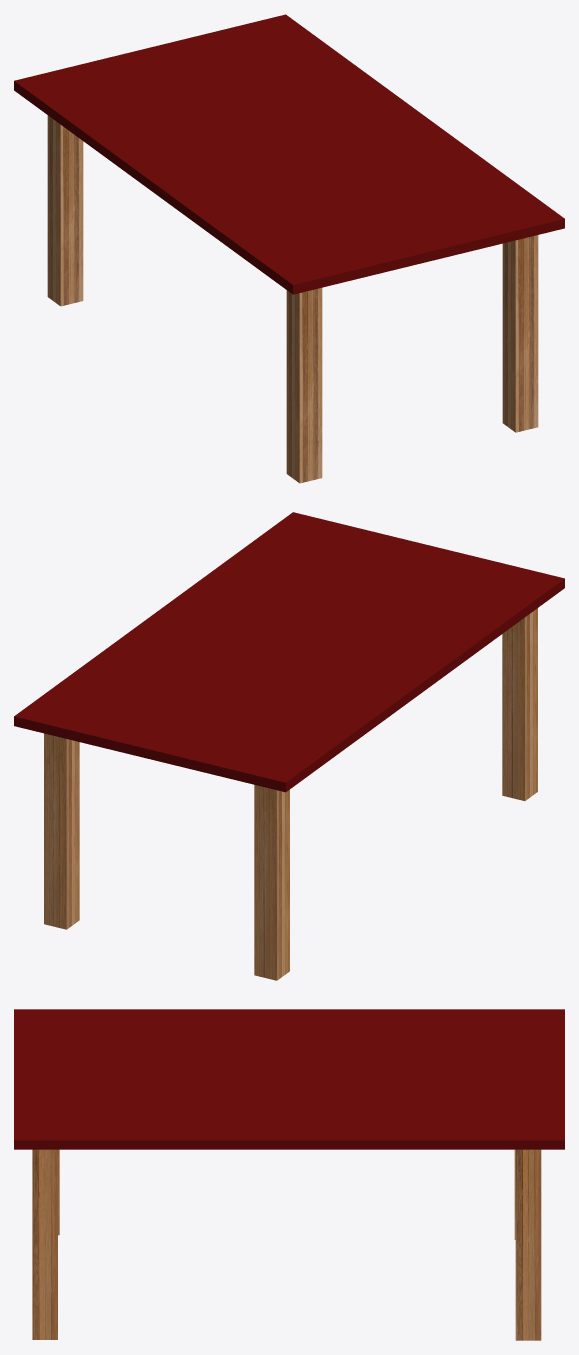
The model's file is tableRed.obj.
The picture shows the model from 3 angles, top to bottom: view 1: azimuth 30°, elevation 25°; view 2: azimuth 150°, elevation 25°; view 3: azimuth 270°, elevation 25°; orthographic projection.
Visible parts, largest first — view 1: Cube, Cube.004, Cube.003, Cube.001; view 2: Cube, Cube.001, Cube.002, Cube.003; view 3: Cube, Cube.002, Cube.004.
Boxes of the visible parts, x1,y1,x2,y2 form: Cube: [14, 14, 564, 294]; Cube.004: [502, 235, 538, 432]; Cube.003: [286, 287, 322, 483]; Cube.001: [47, 115, 83, 306]; Cube: [14, 512, 564, 792]; Cube.001: [254, 785, 289, 980]; Cube.002: [44, 733, 79, 929]; Cube.003: [502, 608, 537, 800]; Cube: [14, 1009, 564, 1149]; Cube.002: [515, 1149, 541, 1340]; Cube.004: [32, 1149, 57, 1339].
Bounding box in the file's own units: 2.86 × 2.13 × 5.08.
